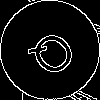Q: (25, 25, 86, 87)
